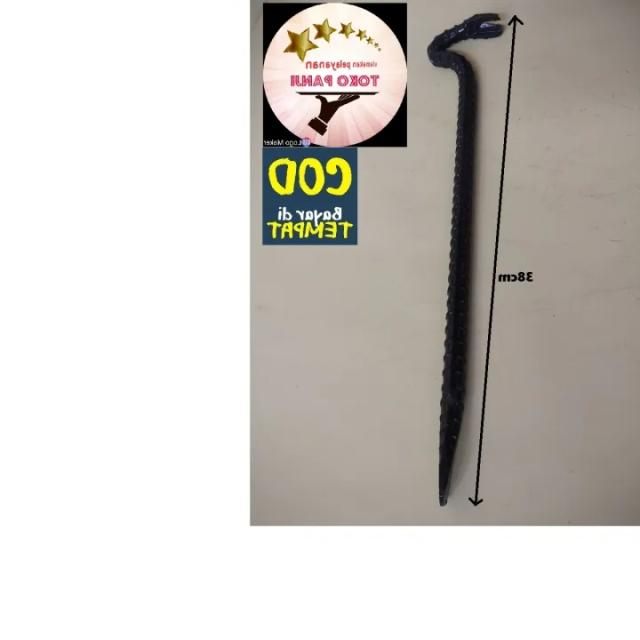Linggis: (419, 10, 507, 506)
